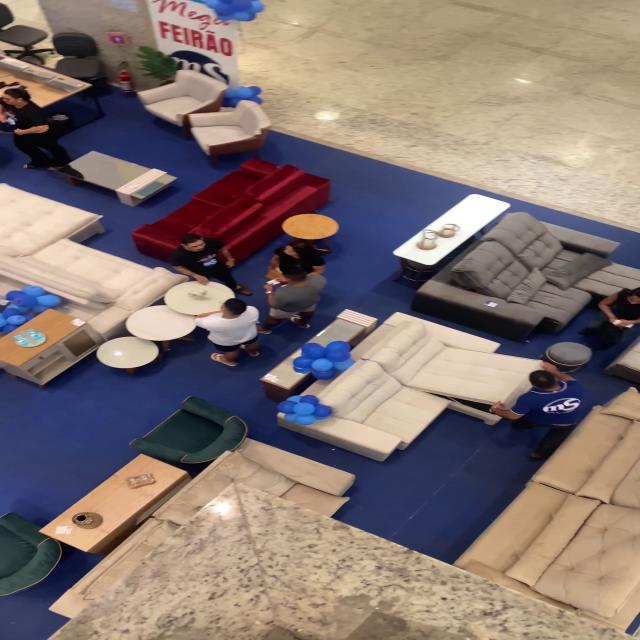person: (492, 357, 579, 461), (0, 74, 76, 188), (154, 225, 253, 302), (262, 234, 362, 285), (575, 274, 640, 348), (198, 303, 266, 367), (262, 267, 326, 331)
